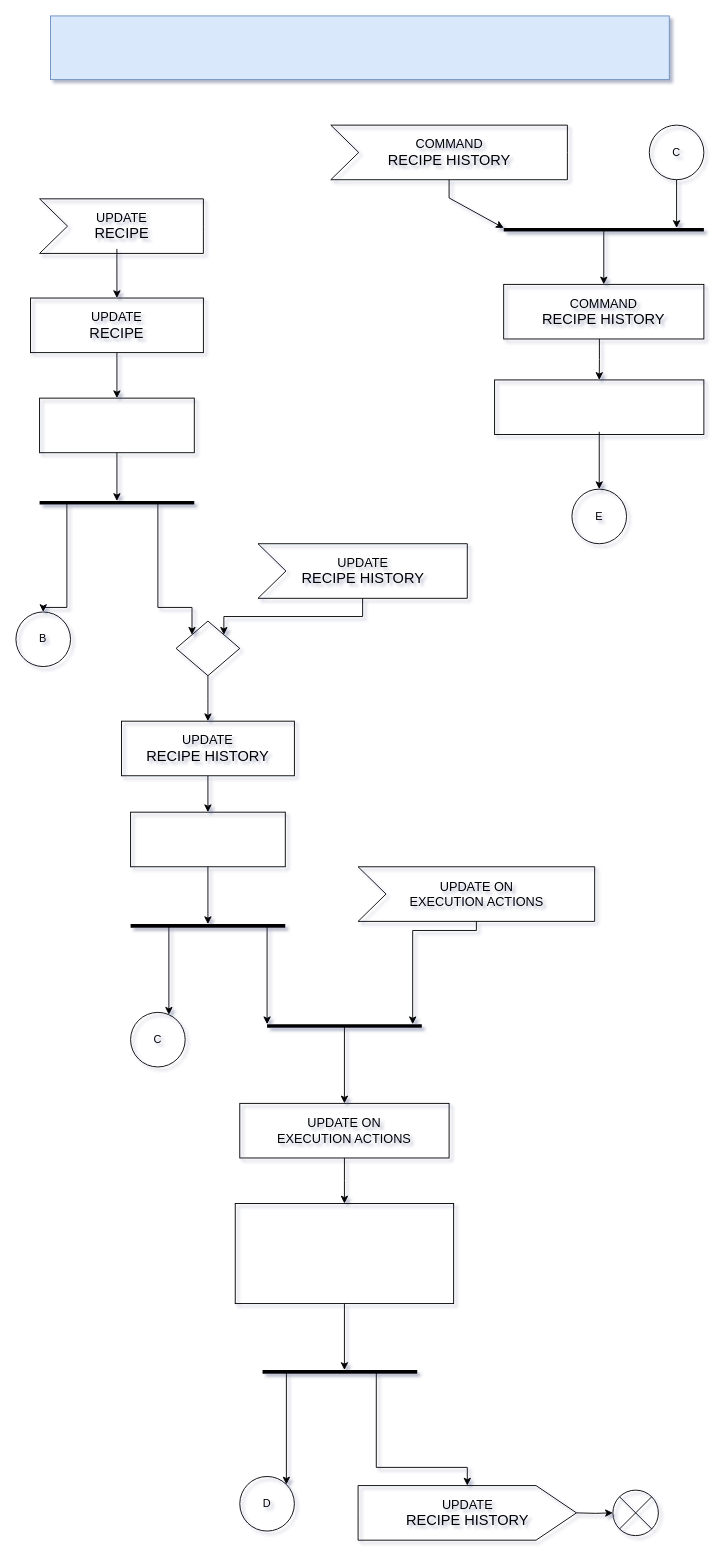
The diagram is 727 pixels wide and 1562 high, and some of its shapes have lost their labels. Each missing label, with the centre of its shape:
"<<DATA STORE>> NEW RECIPE HISTORY" goes at (x=599, y=407).
"<<DATA STORE>> ON EXECUTION ACTIONS" goes at (x=344, y=1253).
"<<DATA STORE>> RECIPE" goes at (x=116, y=425).
"<<DATA STORE>> RECIPE HISTORY" goes at (x=207, y=839).
"RECIPE TRACKING" goes at (x=359, y=47).
